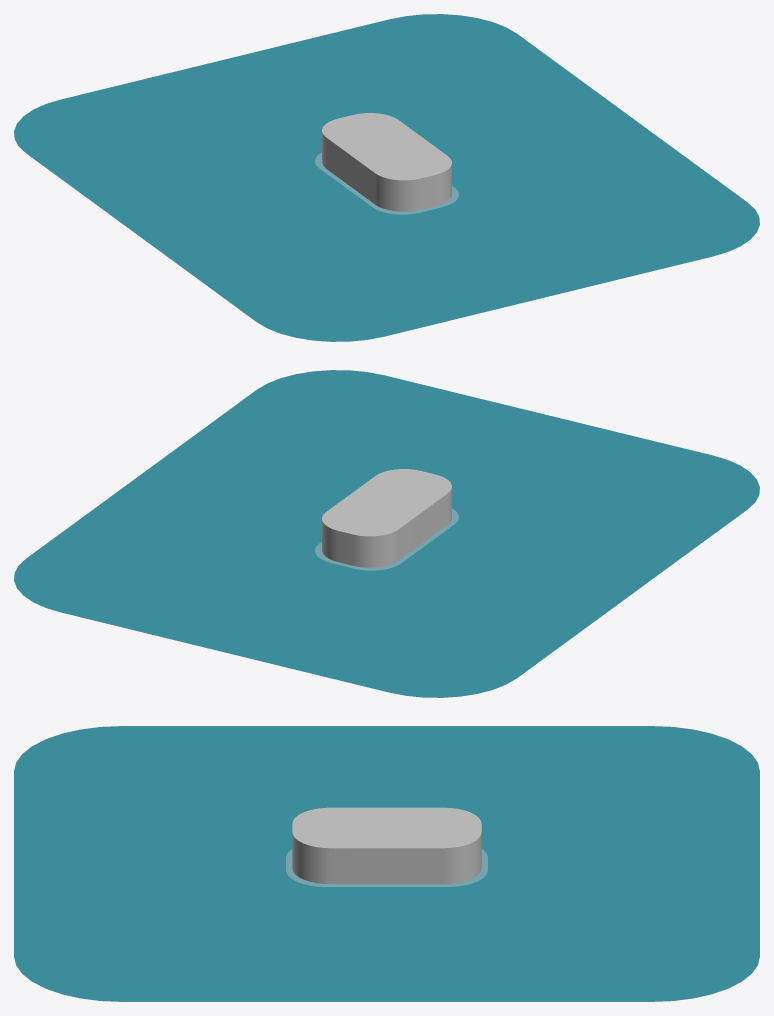
The model's file is level1_env.fbx.
3 views of the same model, one above another, from view 1: azimuth 30°, elevation 25°; view 2: azimuth 150°, elevation 25°; view 3: azimuth 270°, elevation 25° (orthographic). The views are drawn at different scales.
Parts seen in each view (by area): view 1: level1; view 2: level1; view 3: level1.
Boxes of the visible parts, x1=… form: level1: x1=14, y1=14, x2=759, y2=341; level1: x1=14, y1=370, x2=759, y2=697; level1: x1=14, y1=726, x2=759, y2=1001.
Size of the model in its own units: 52.06 by 3.46 by 59.5.
